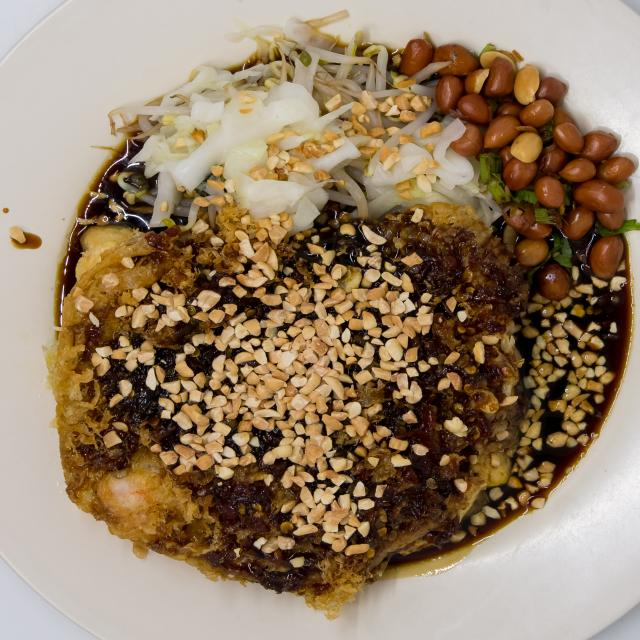Tahu-Telur: (39, 24, 607, 612)
